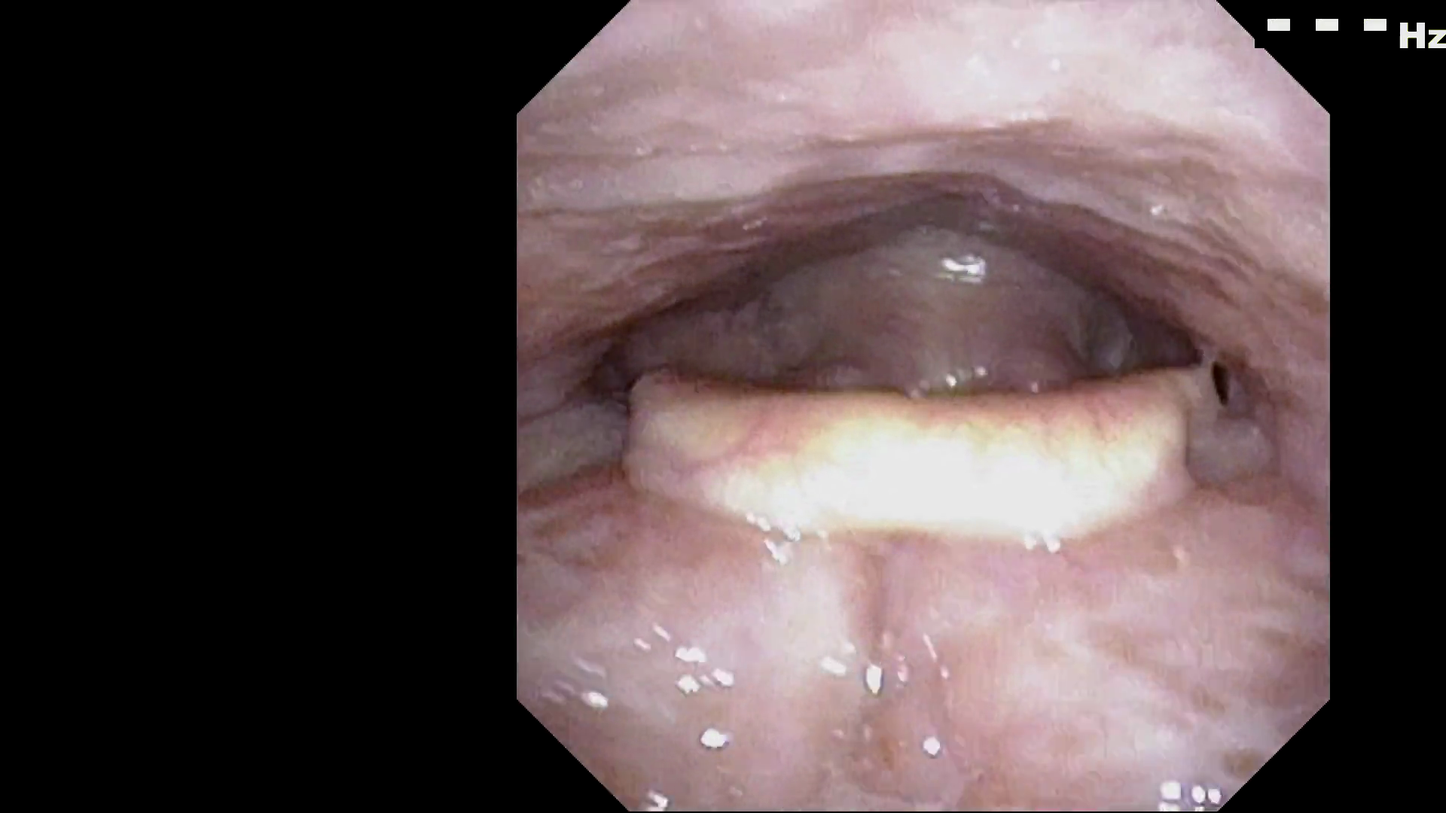epiglottis: (626, 337, 1180, 576)
